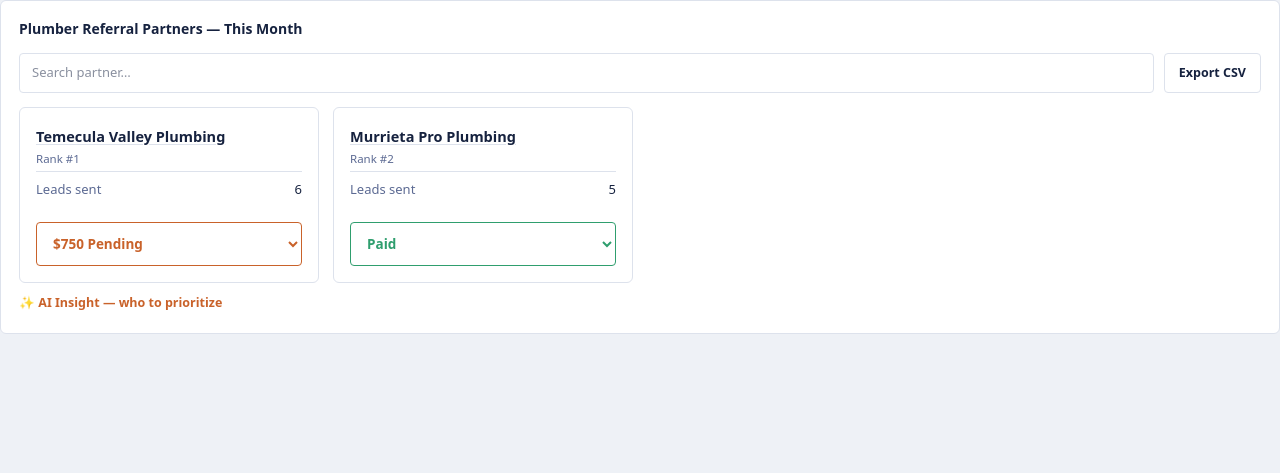
Scenario: ReferralLeaderboardView › renders the referral-prioritization AI insight when provided
Click the button "✨ AI Insight — who to prioritize". click: (121, 299)
box: [19, 283, 222, 315]
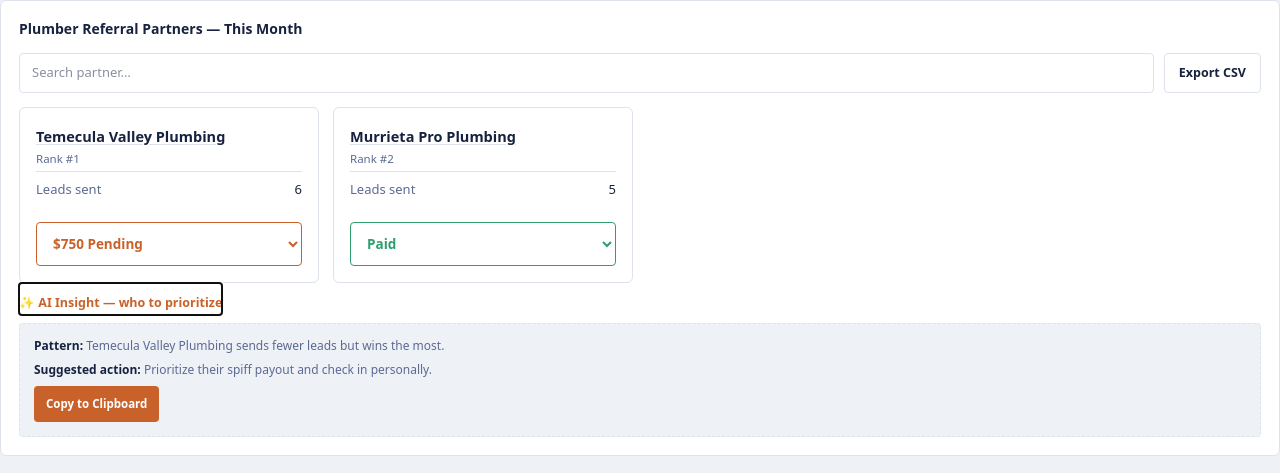
Expected: the text "Prioritize their spiff payout" is shown, [144, 361, 432, 378]
